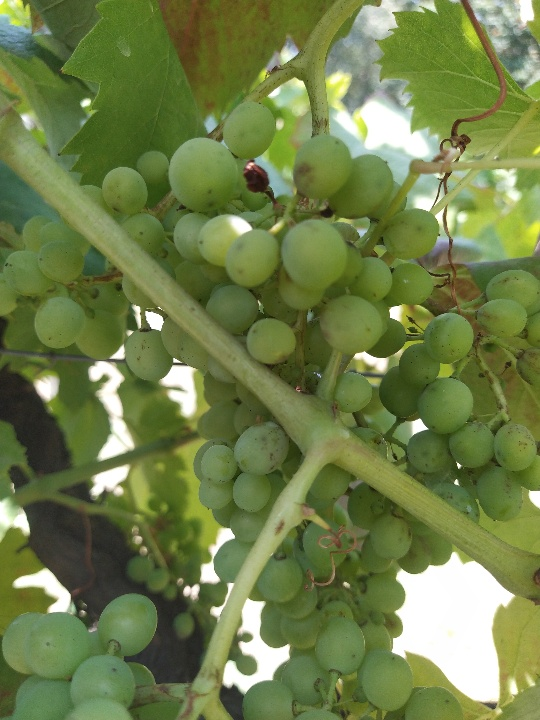grape: (8, 96, 533, 655)
